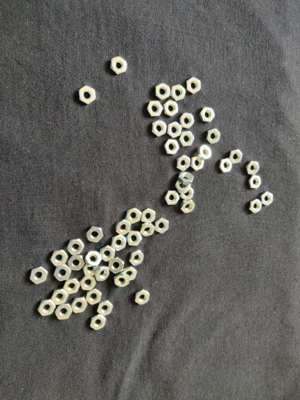nut: (110, 56, 129, 75), (78, 85, 96, 105), (53, 264, 72, 282), (30, 266, 48, 285), (67, 255, 86, 272), (37, 299, 56, 316), (86, 226, 104, 243), (50, 250, 68, 267), (63, 278, 81, 295), (51, 289, 69, 306), (55, 304, 73, 321), (155, 82, 171, 101), (146, 100, 163, 117), (125, 207, 142, 224), (126, 230, 143, 247), (99, 245, 116, 262), (85, 288, 102, 305), (71, 296, 88, 313), (67, 239, 85, 255), (79, 275, 97, 291), (163, 100, 179, 117), (164, 139, 180, 156), (111, 235, 127, 252), (85, 250, 102, 266), (109, 257, 125, 274), (90, 314, 107, 330), (190, 155, 206, 172), (152, 120, 167, 138), (167, 121, 182, 139), (141, 207, 156, 225), (186, 77, 201, 95), (154, 218, 170, 234), (116, 219, 132, 235), (123, 266, 139, 282), (98, 300, 114, 316), (171, 85, 186, 102), (129, 249, 144, 266), (200, 107, 215, 124), (176, 155, 191, 172), (179, 200, 197, 214), (114, 272, 130, 287), (135, 290, 151, 305), (180, 113, 195, 129), (180, 131, 195, 147), (206, 129, 221, 145), (218, 158, 233, 174), (229, 149, 244, 165), (246, 160, 261, 176), (164, 190, 180, 205), (83, 262, 98, 277), (95, 266, 110, 281), (248, 175, 263, 190), (249, 199, 264, 214), (140, 223, 156, 237), (198, 145, 212, 161), (178, 172, 195, 185), (174, 180, 191, 193), (260, 191, 274, 206), (181, 187, 195, 200)
